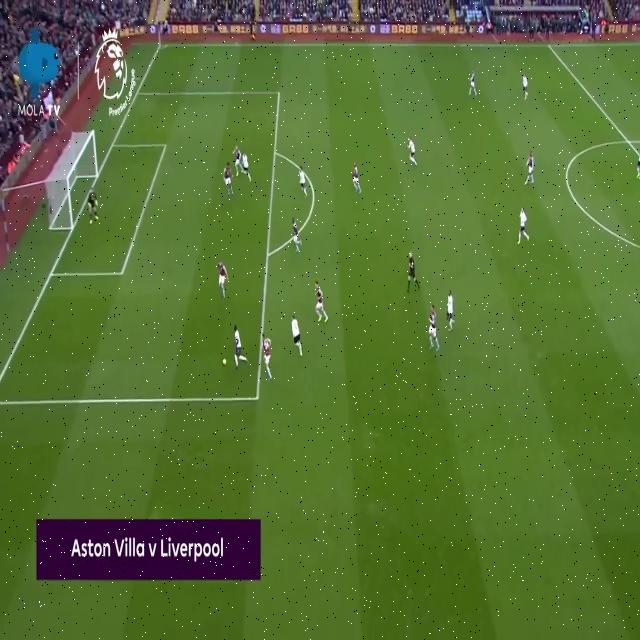Ball: (222, 357, 227, 366)
GoalKeeper: (86, 188, 100, 223)
Referee: (408, 250, 420, 293), (249, 20, 256, 42)
TEAM 1: (260, 331, 273, 381), (314, 281, 328, 324), (217, 258, 230, 300), (429, 303, 440, 352), (222, 162, 234, 198), (351, 160, 362, 196), (232, 141, 242, 177), (292, 217, 302, 251), (524, 151, 534, 185), (469, 68, 477, 96)
TEAM 2: (290, 314, 305, 358), (234, 322, 248, 368), (444, 287, 457, 332), (518, 206, 530, 248), (242, 151, 252, 184), (408, 136, 418, 167), (299, 164, 307, 197), (521, 71, 529, 102), (637, 155, 640, 183)
